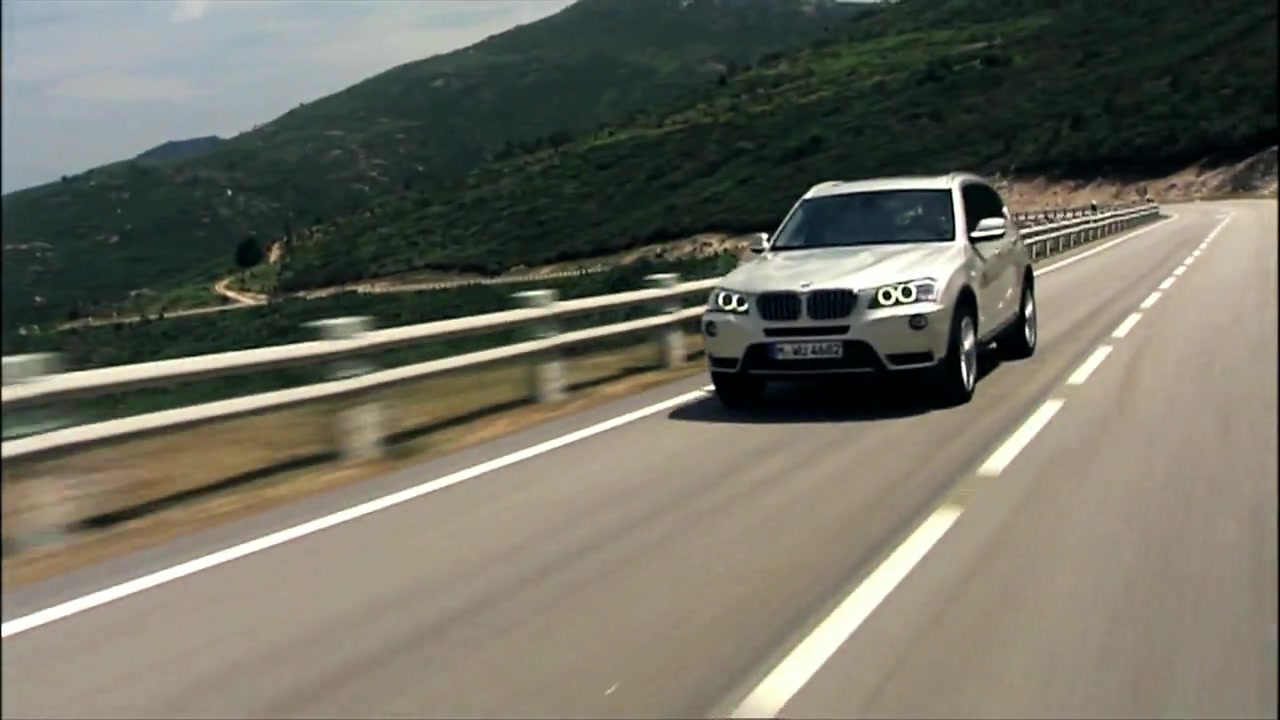car: (699, 172, 1042, 402)
